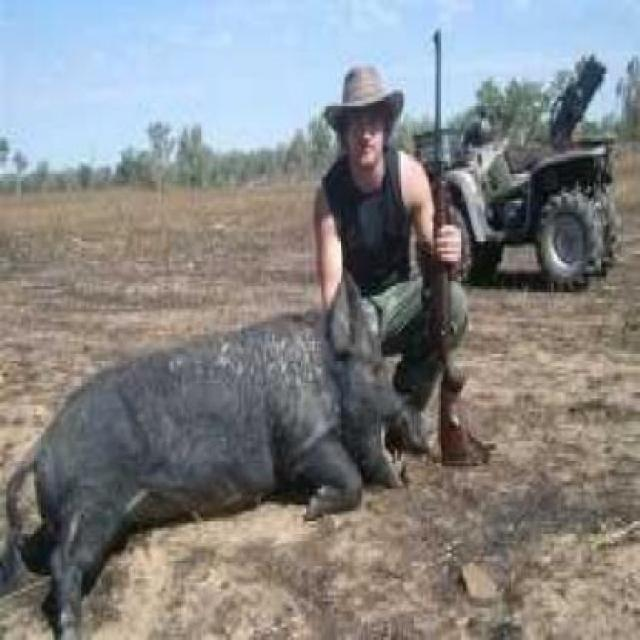pig: (17, 271, 415, 639)
